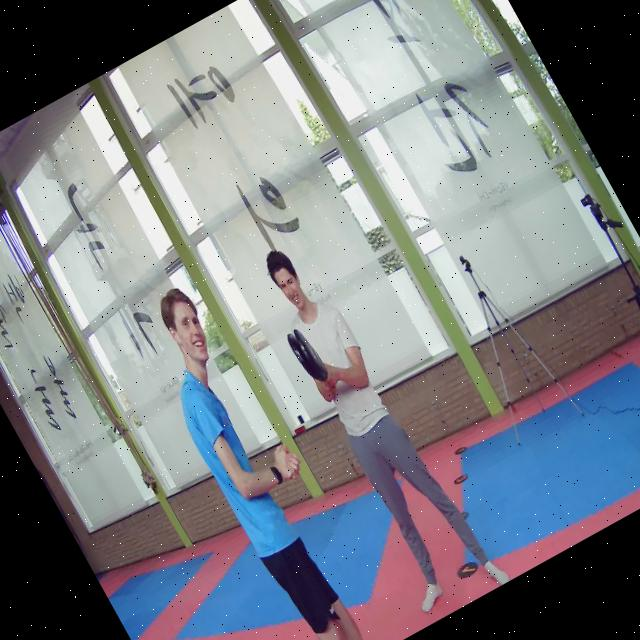paddle: (287, 329, 327, 382)
